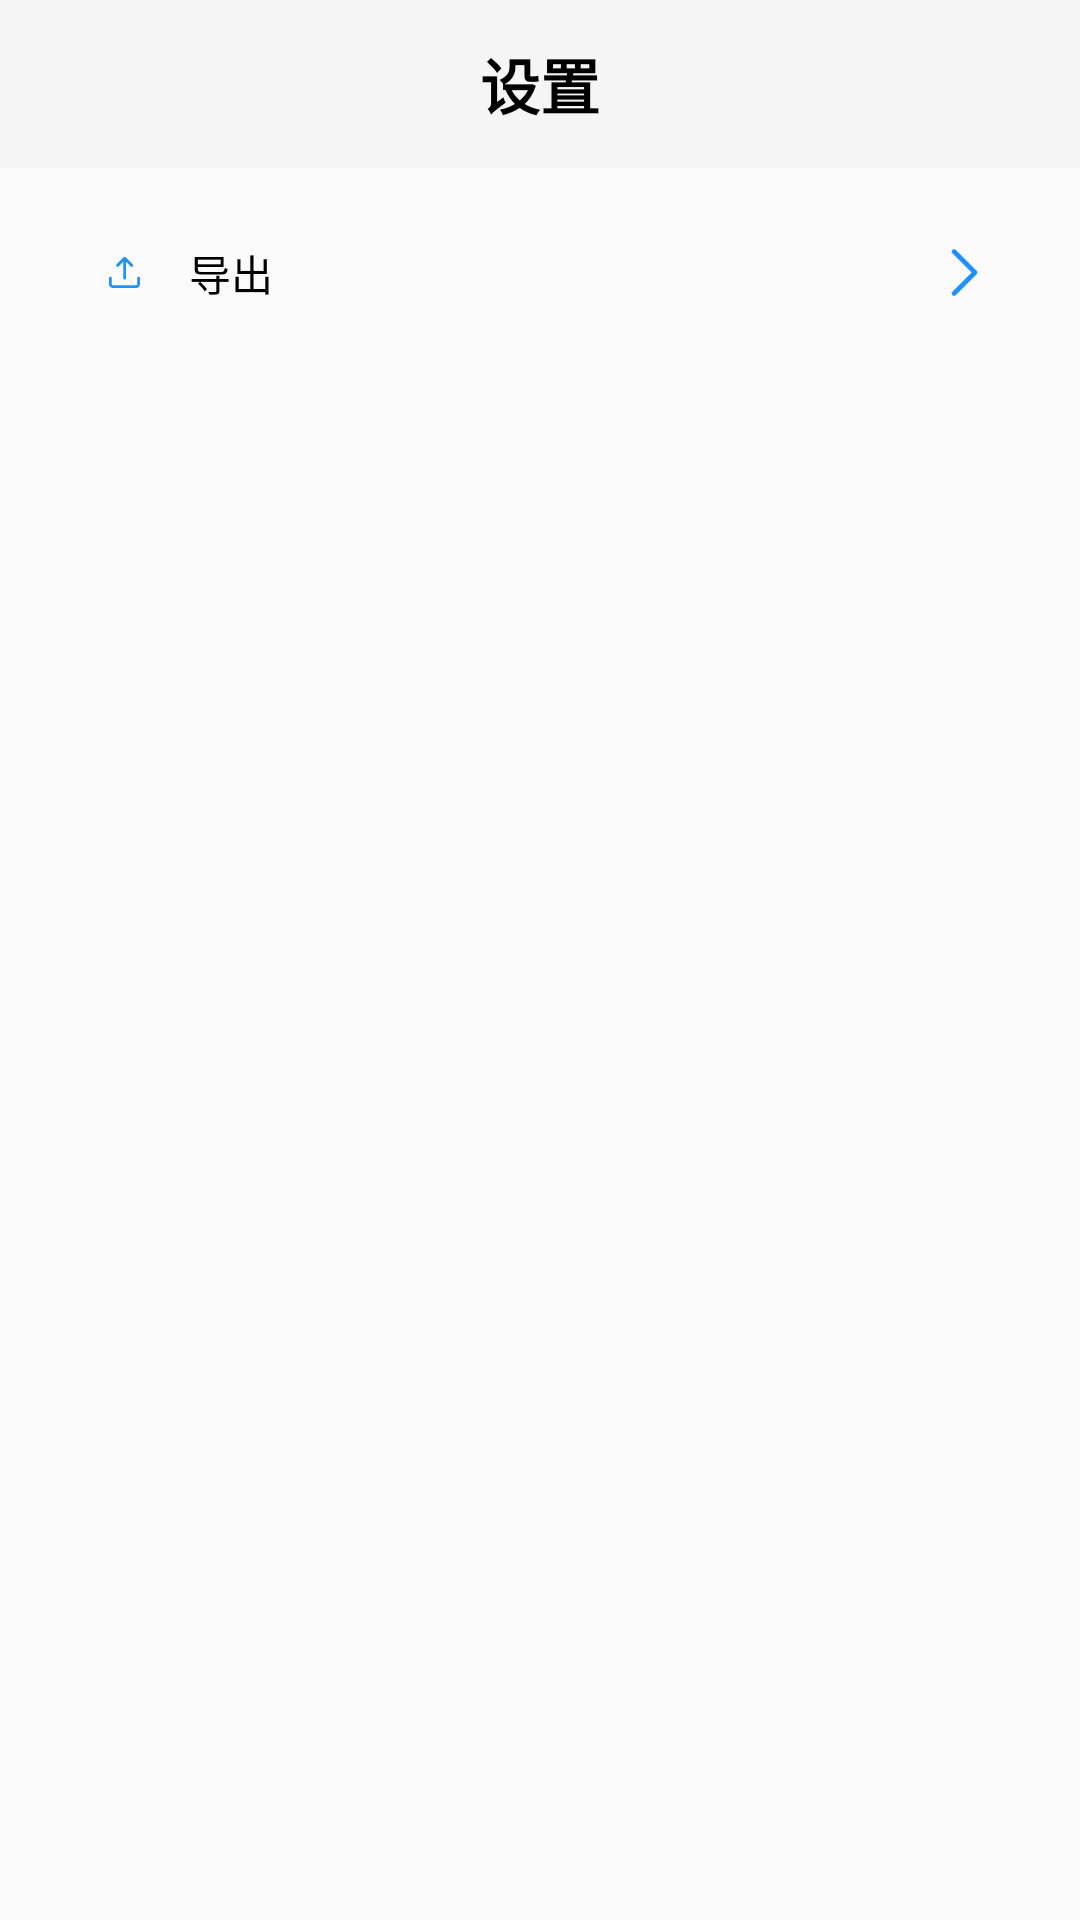

Where icons sit on this 1080w x 1920h app screen, as [left=x1, top=y1, right=x2, bottom=y2]:
export: [left=109, top=257, right=140, bottom=288]
right arrow: [left=951, top=249, right=978, bottom=296]
